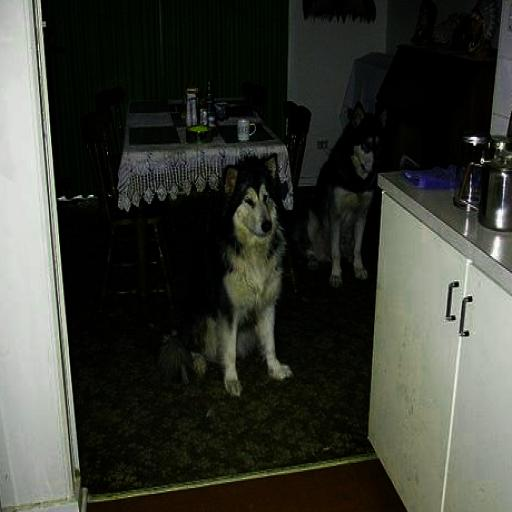dog_face: (222, 148, 286, 242), (347, 99, 392, 182)
